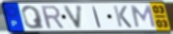I: (91, 5, 103, 29)
K: (112, 5, 134, 29)
M: (130, 5, 157, 29)
Q: (20, 5, 46, 30)
R: (40, 5, 66, 30)
V: (62, 5, 84, 30)
